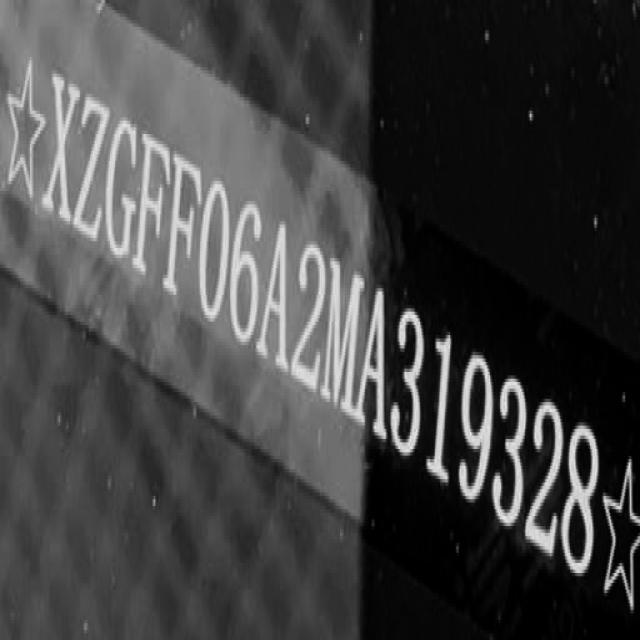0: (198, 175, 232, 336)
1: (426, 314, 458, 498)
2: (524, 383, 568, 563), (292, 224, 331, 405)
3: (392, 289, 429, 476), (492, 360, 530, 540)
6: (229, 188, 265, 360)
8: (560, 406, 603, 592)
9: (454, 342, 496, 520)
A: (259, 202, 292, 379), (360, 271, 390, 453)
F: (165, 138, 203, 318), (137, 124, 172, 288)
G: (106, 107, 141, 270)
M: (325, 251, 373, 438)
X: (40, 66, 79, 236)
Z: (75, 86, 111, 258)
